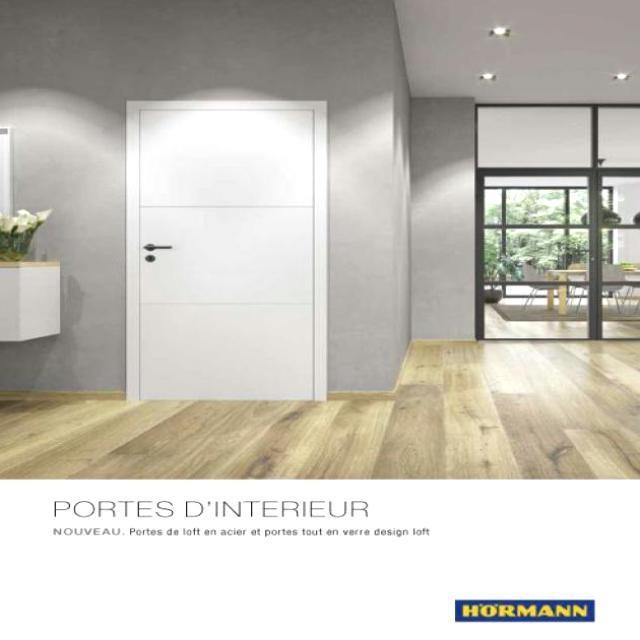door: (125, 99, 326, 401)
